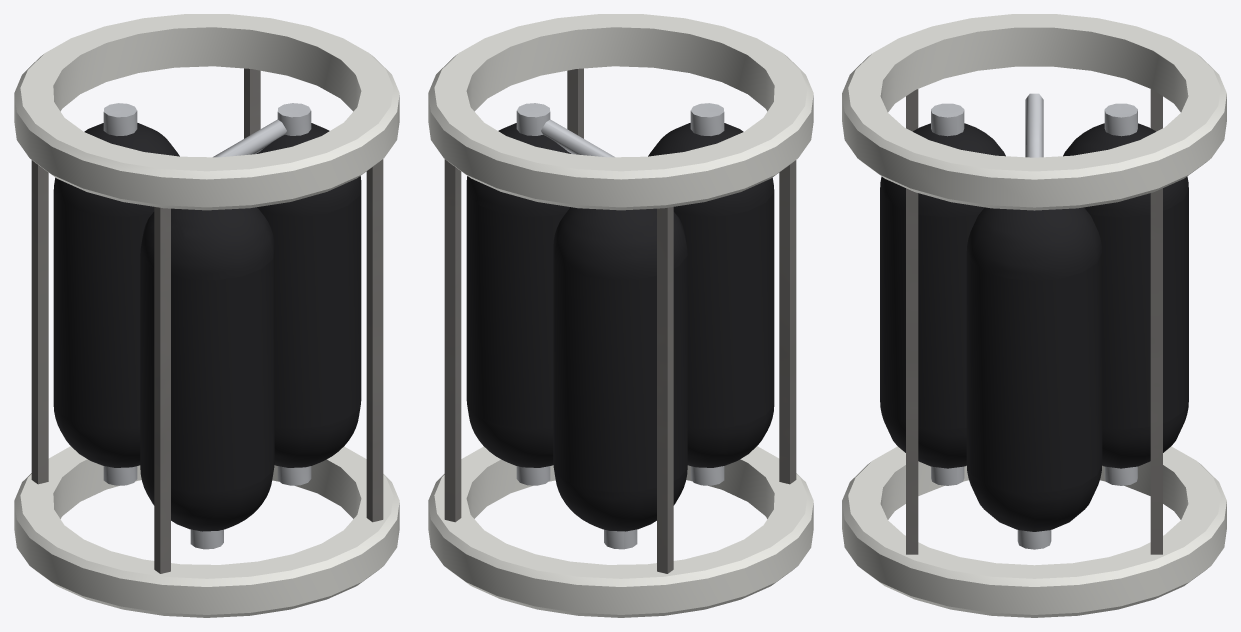
File: ax_tank_07_xenon_copv_xs.glb
3 renders of one model, left to right at view 1: azimuth 30°, elevation 25°; view 2: azimuth 150°, elevation 25°; view 3: azimuth 270°, elevation 25°, orthographic.
Visible parts, largest first — view 1: copv_bottles, frame_rings, frame_longerons, bottle_bosses, manifold; view 2: copv_bottles, frame_rings, frame_longerons, bottle_bosses, manifold; view 3: copv_bottles, frame_rings, frame_longerons, bottle_bosses, manifold.
Part boxes in pixels (box(x1,y1,x2,y2)): copv_bottles: box(53, 123, 361, 531); frame_rings: box(14, 14, 399, 617); frame_longerons: box(31, 68, 383, 573); bottle_bosses: box(103, 103, 311, 549); manifold: box(213, 119, 286, 157); copv_bottles: box(466, 123, 774, 531); frame_rings: box(428, 14, 813, 617); frame_longerons: box(444, 68, 796, 573); bottle_bosses: box(516, 103, 724, 549); manifold: box(541, 119, 614, 157); copv_bottles: box(880, 123, 1188, 531); frame_rings: box(842, 14, 1226, 617); frame_longerons: box(906, 89, 1162, 554); bottle_bosses: box(931, 103, 1137, 549); manifold: box(1025, 93, 1043, 157).
Size of the model in its own units: 0.625 by 0.8 by 0.625.
Materials: 4 (2 with a texture image).
